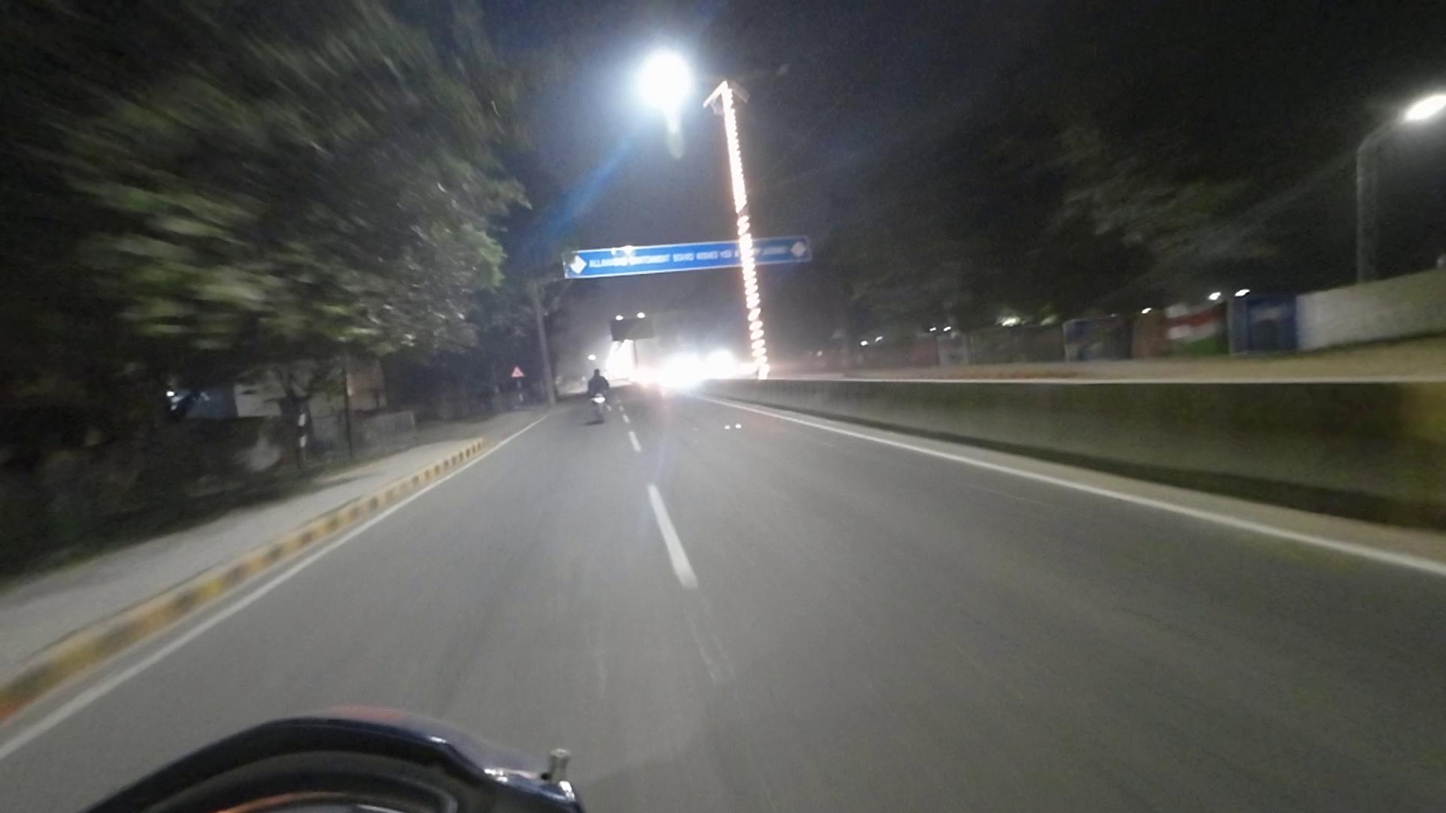streetlight: (741, 54, 792, 82)
